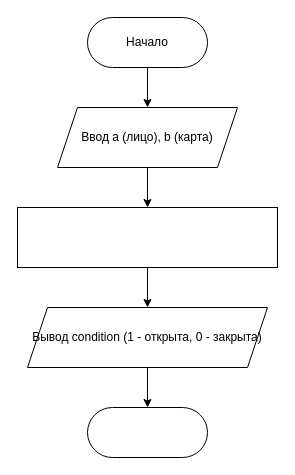
This 295x475 diagram has some shape labels left out. Each missing label, with the centre of its shape:
condition = (a % 2 == 0) != (b % 2 == 0): point (147, 237)
Конец: point (147, 432)
